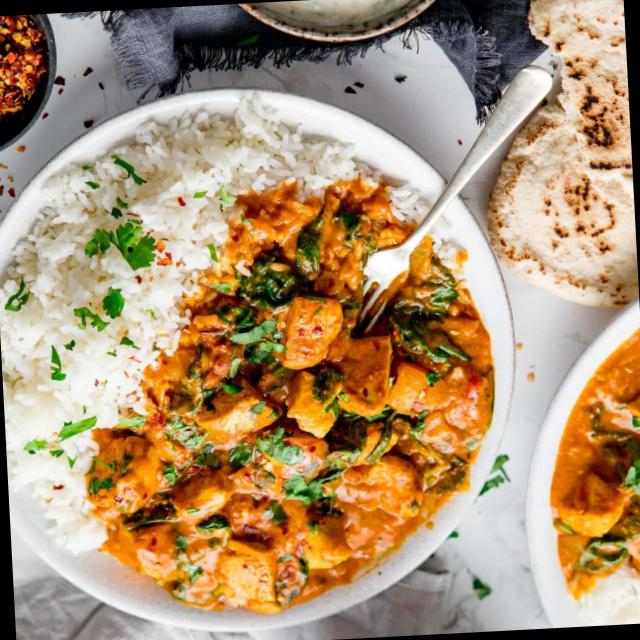chicken: (122, 191, 500, 613), (543, 323, 640, 598)
rice: (0, 185, 133, 554), (82, 108, 290, 274)
roti: (479, 0, 640, 317)
